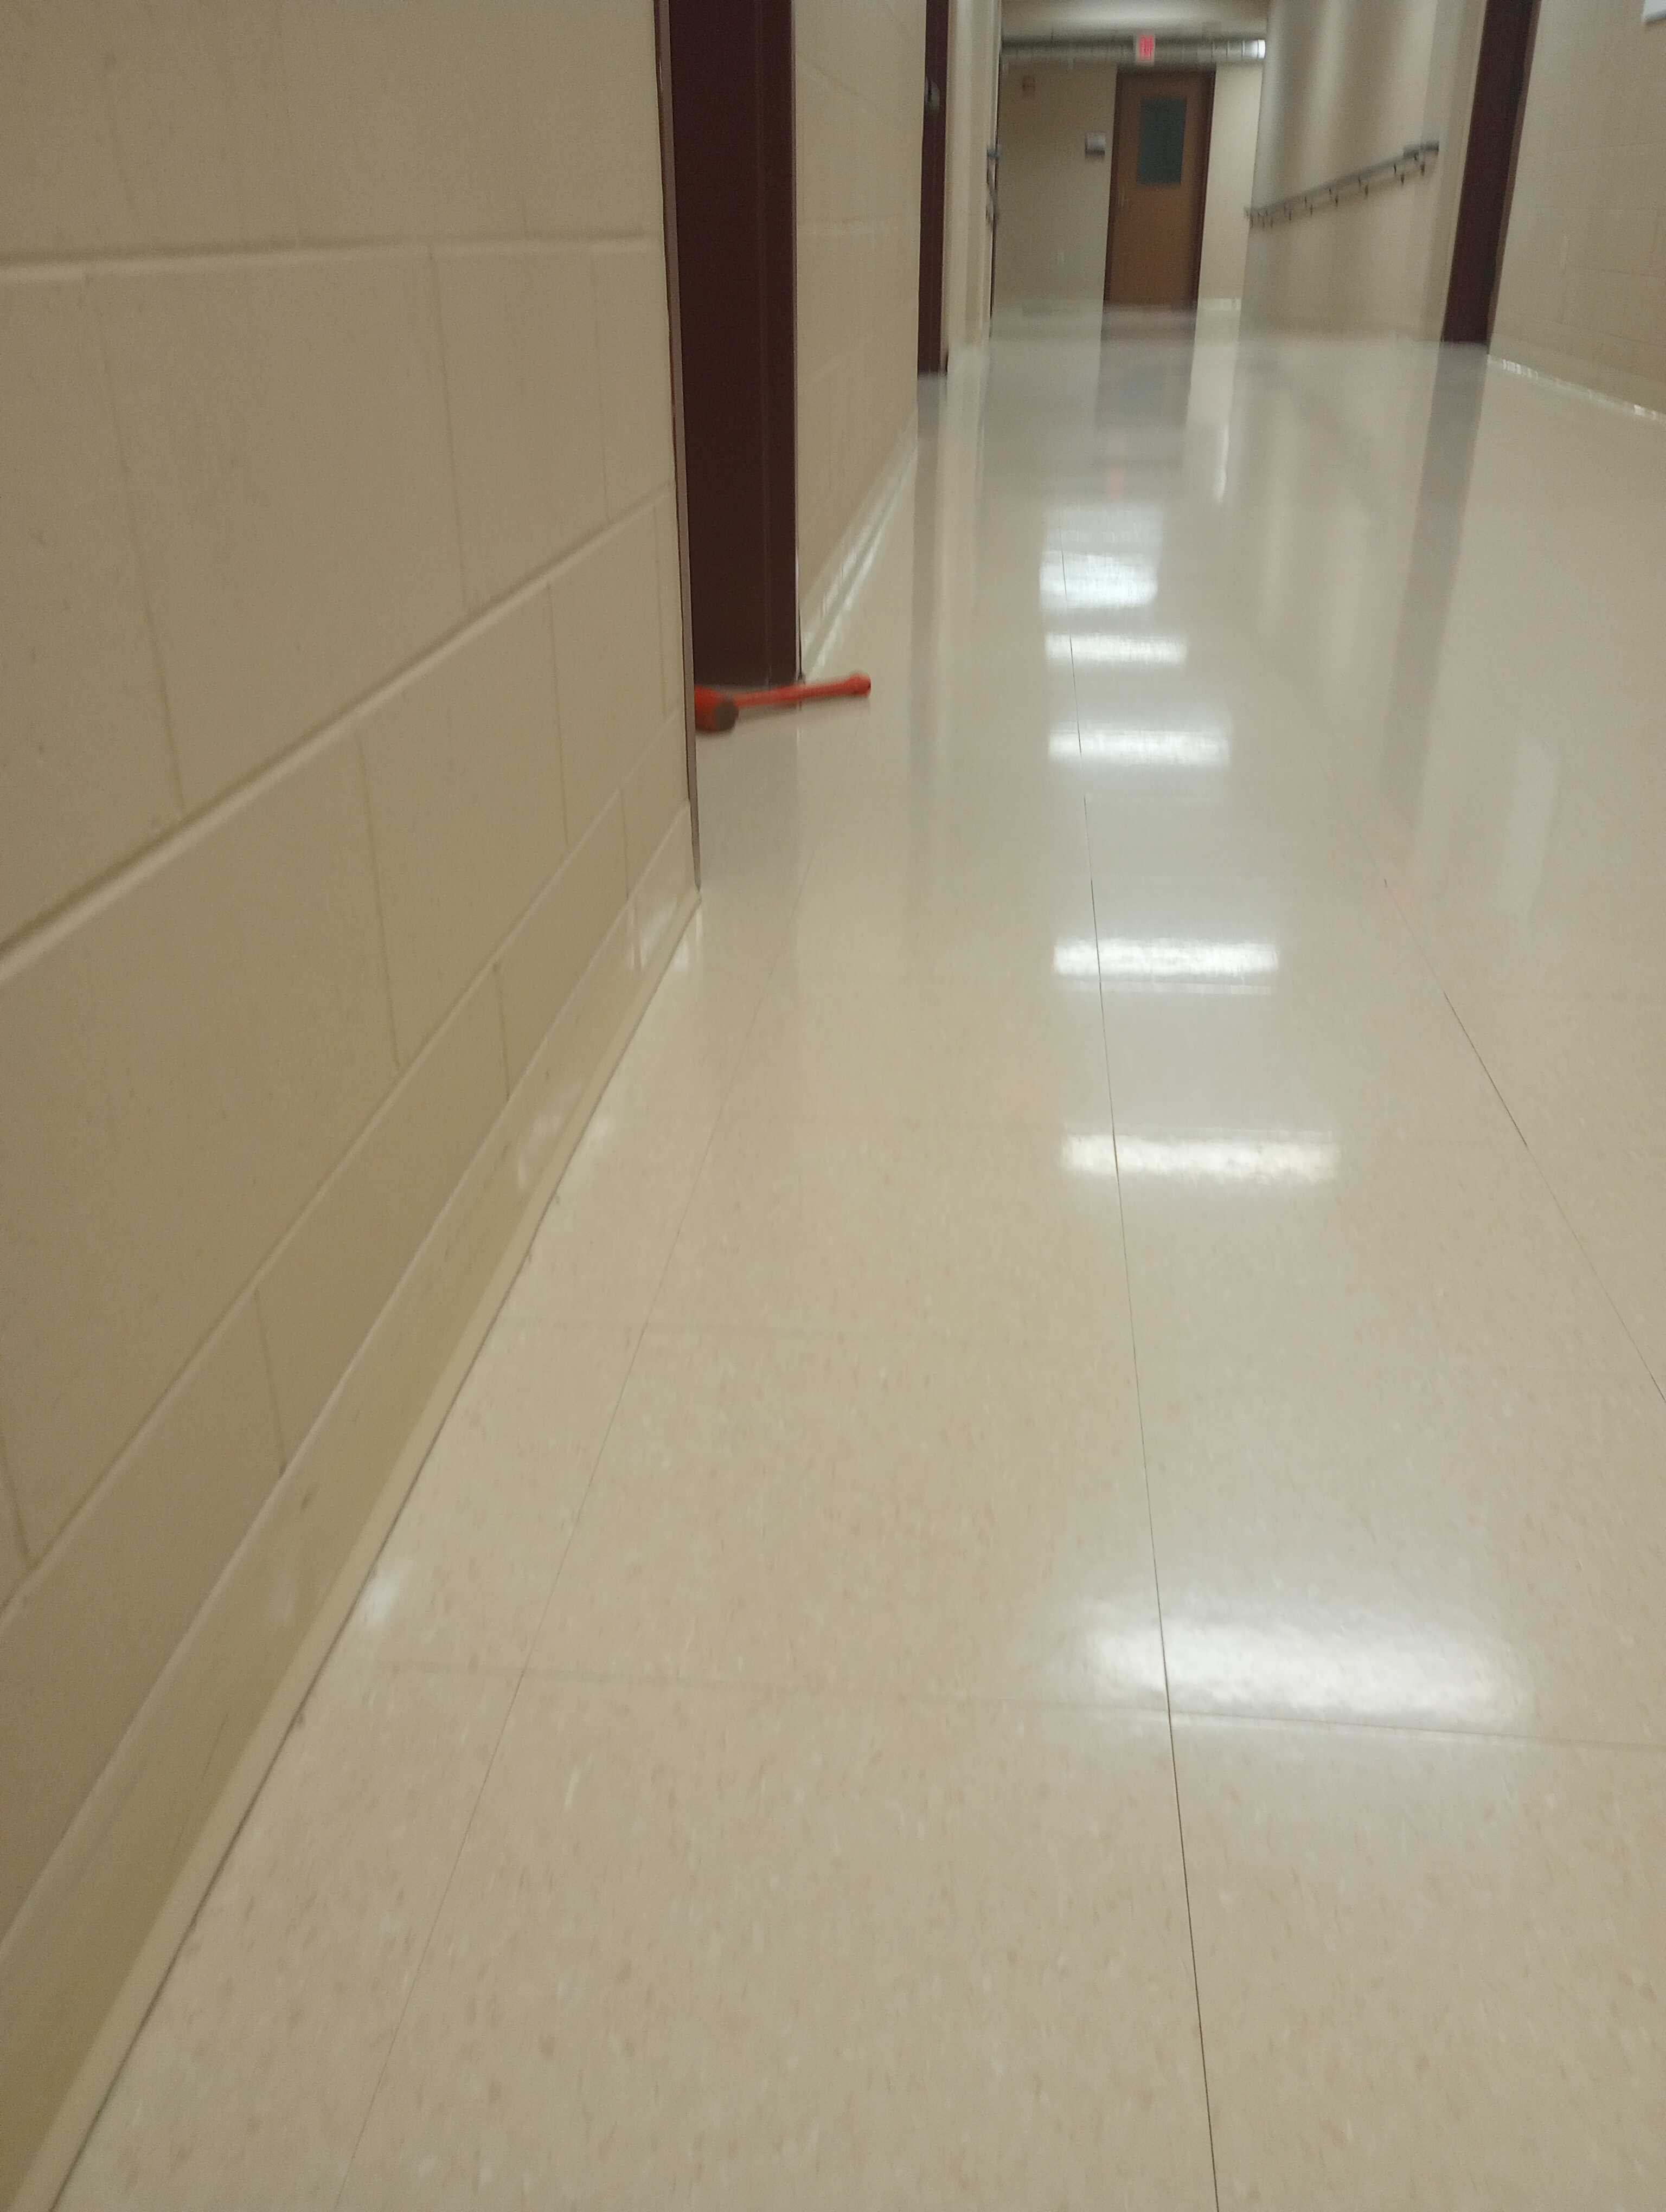bottle: (688, 663, 877, 750)
